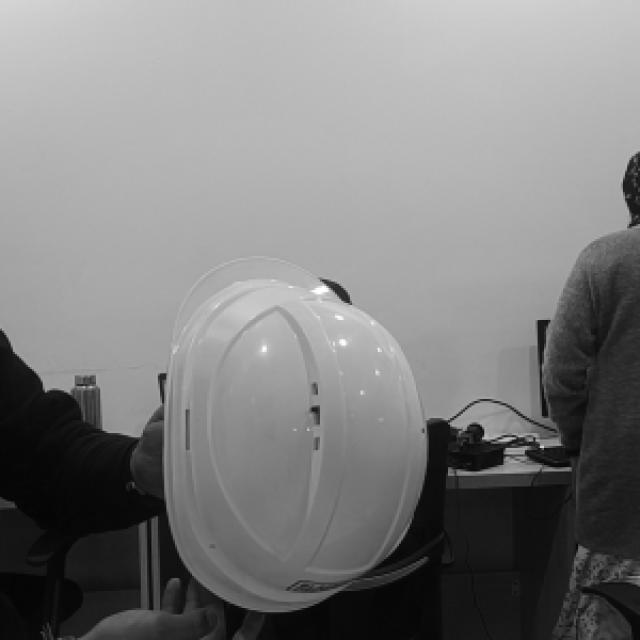safety_helmet: (163, 257, 428, 613)
